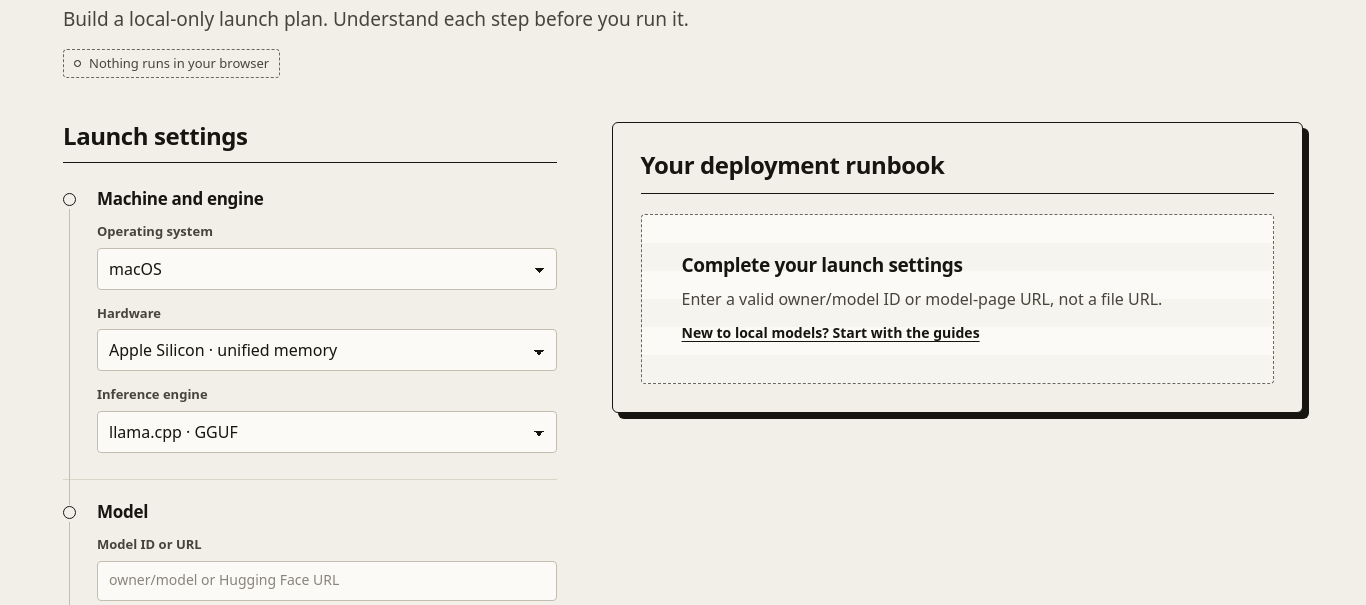
Test: deployment workbench › does not fetch or execute commands and only offers a valid runbook
The image size is (1366, 605).
Check: the button "Copy runbook" is not shown
Type "example/model" into the field labelled "Model ID or URL" at (327, 581), box x1=97 y1=561 x2=557 y2=601
(page scrolled)
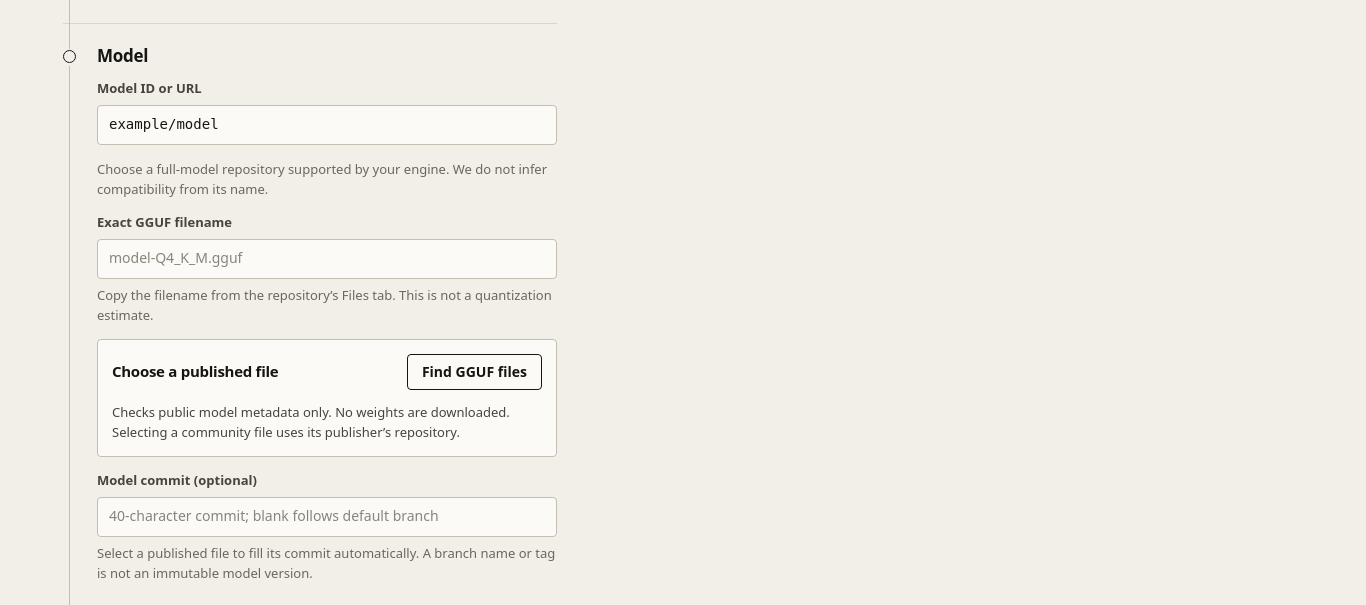
Type "model.gguf" into the field labelled "Exact GGUF filename" at (327, 259), box x1=97 y1=239 x2=557 y2=279
(page scrolled)
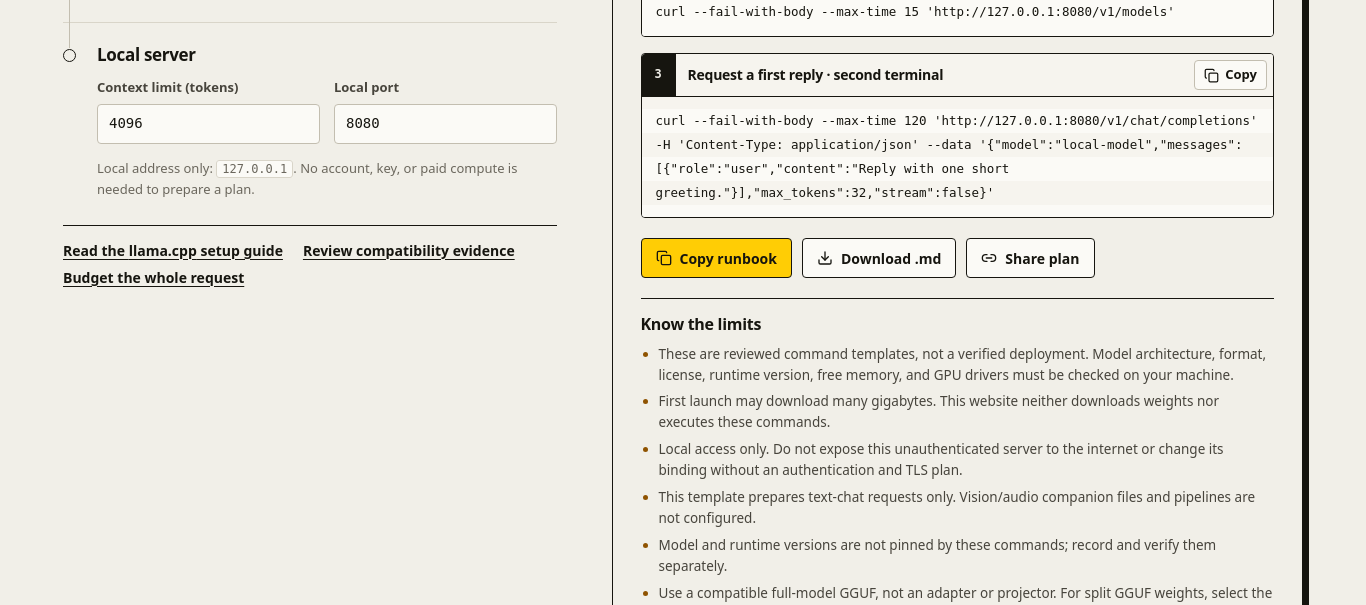
Check: the button "Copy runbook" is shown, box x1=640 y1=238 x2=792 y2=278
